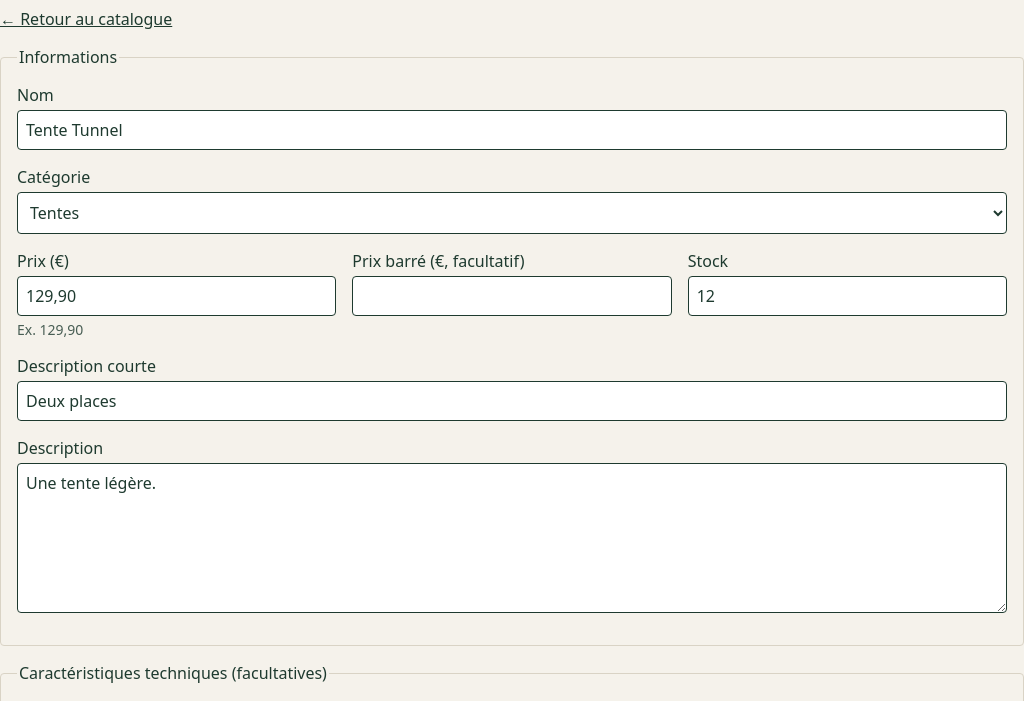
Test: ProductForm – modification › enregistre avec la version lue, convertit les prix en centimes et passe à la version suivante
The image size is (1024, 701).
expect the field labelled "Nom" is shown: met, box [17,110,1007,150]
Replace the text in the field labelled "Prix (€)" with "119,90" at (177, 296), box [17,276,336,316]
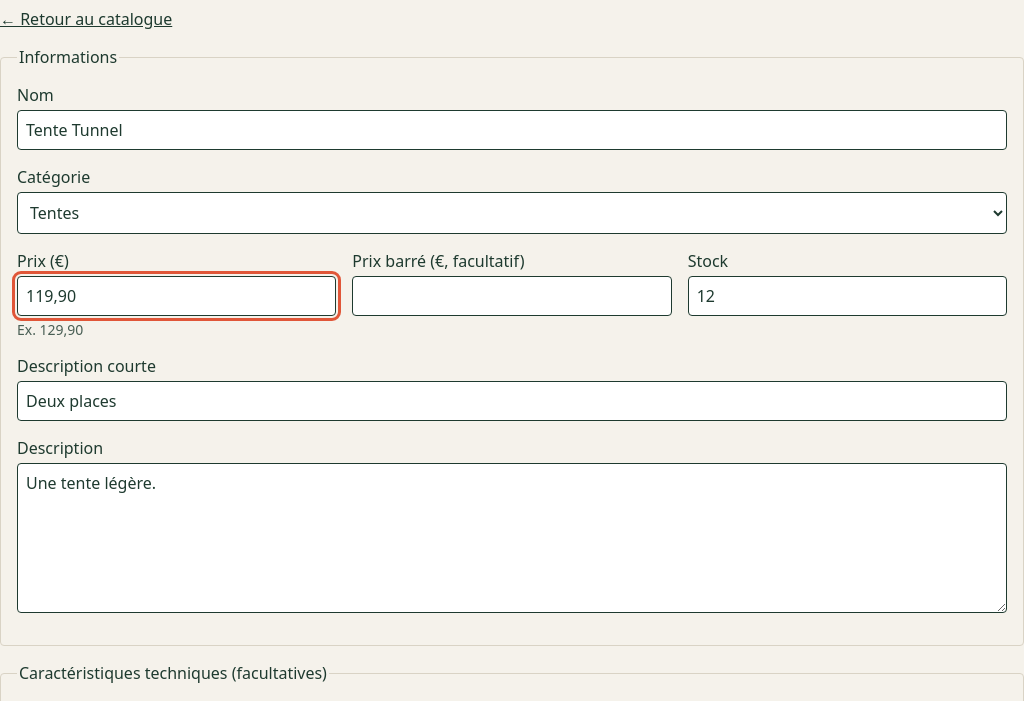
Replace the text in the field labelled "Stock" with "7" at (847, 296), box [688,276,1007,316]
(page scrolled)
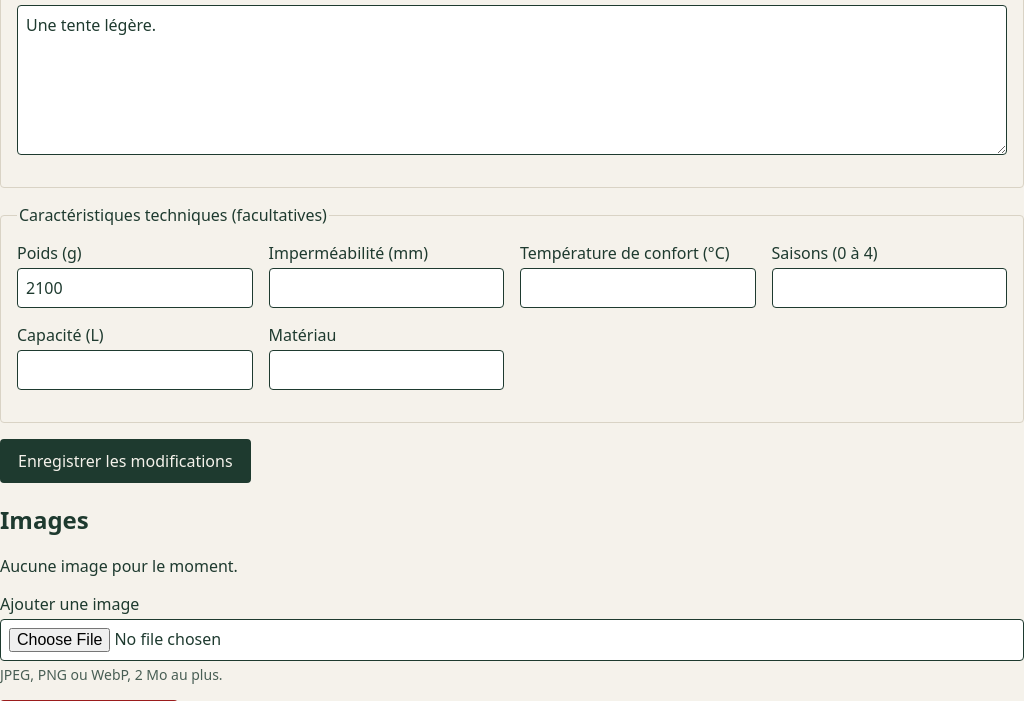
Click the button "Enregistrer les modifications".
click(125, 461)  # box [0,439,251,483]
(page scrolled)
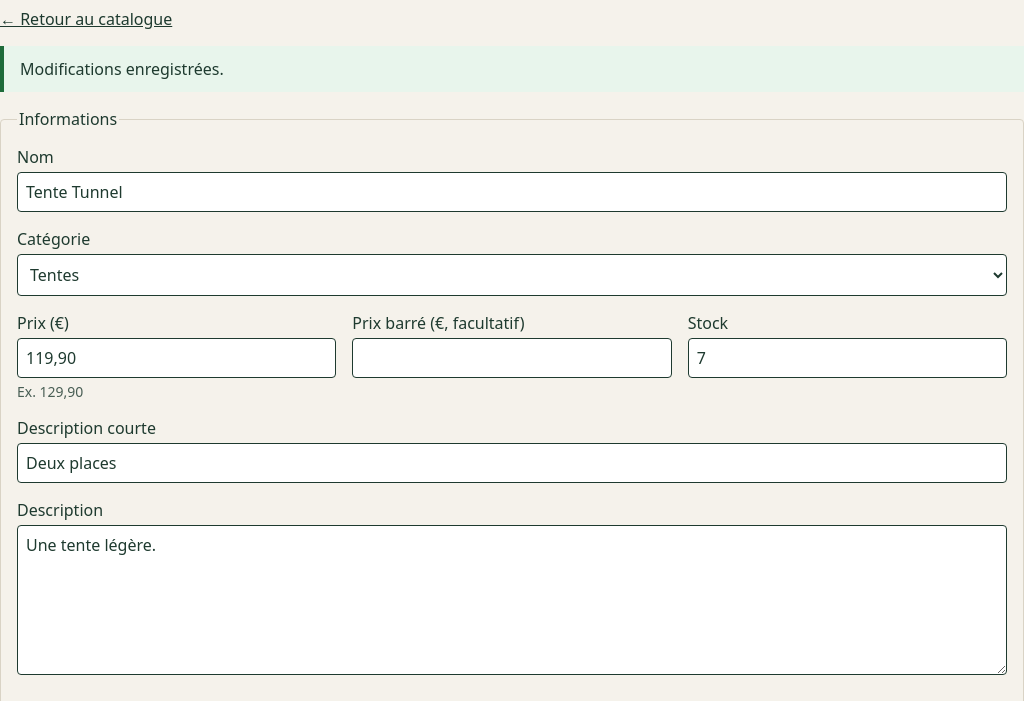
expect the text "Modifications enregistrées." is shown: met, box [0,46,1023,92]
